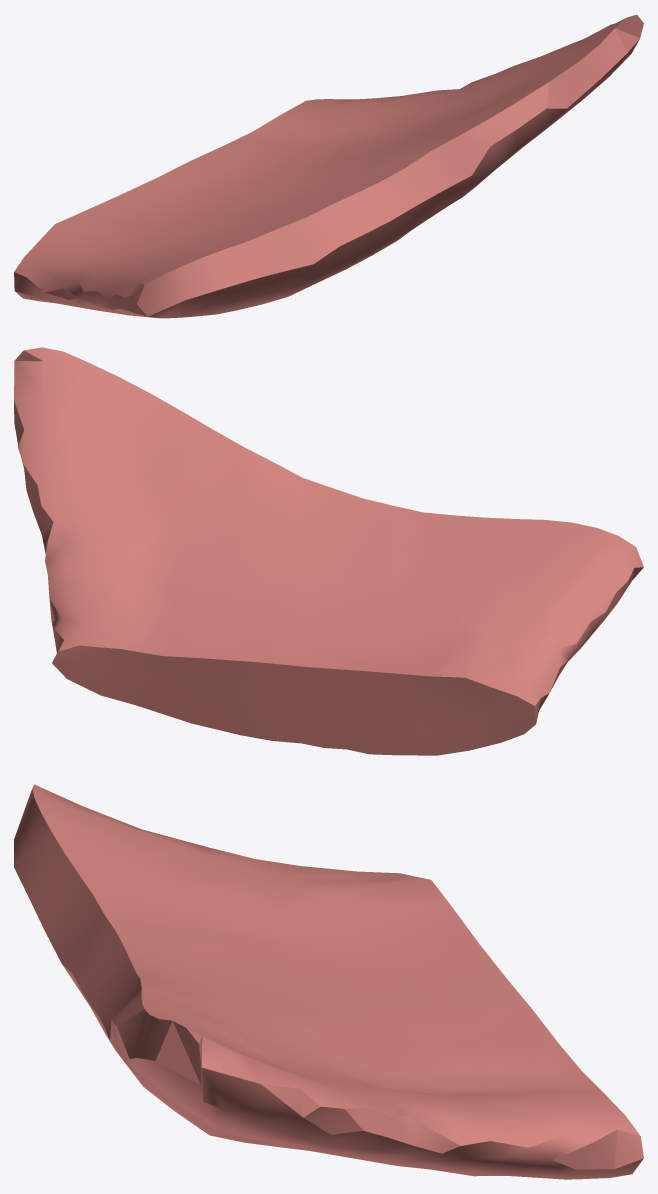
Rendered from fma54115-f_mm2214.glb.
The picture shows the model from 3 angles, top to bottom: view 1: azimuth 30°, elevation 25°; view 2: azimuth 150°, elevation 25°; view 3: azimuth 270°, elevation 25°; orthographic projection. The views are drawn at different scales.
Parts seen in each view (by area): view 1: FMA54115-F_MM2214; view 2: FMA54115-F_MM2214; view 3: FMA54115-F_MM2214.
Part boxes in pixels (x1=…): FMA54115-F_MM2214: x1=14, y1=14, x2=643, y2=318; FMA54115-F_MM2214: x1=14, y1=347, x2=643, y2=755; FMA54115-F_MM2214: x1=14, y1=784, x2=643, y2=1179.
Bounding box in the file's own units: 0.00875 × 0.00335 × 0.00543.
